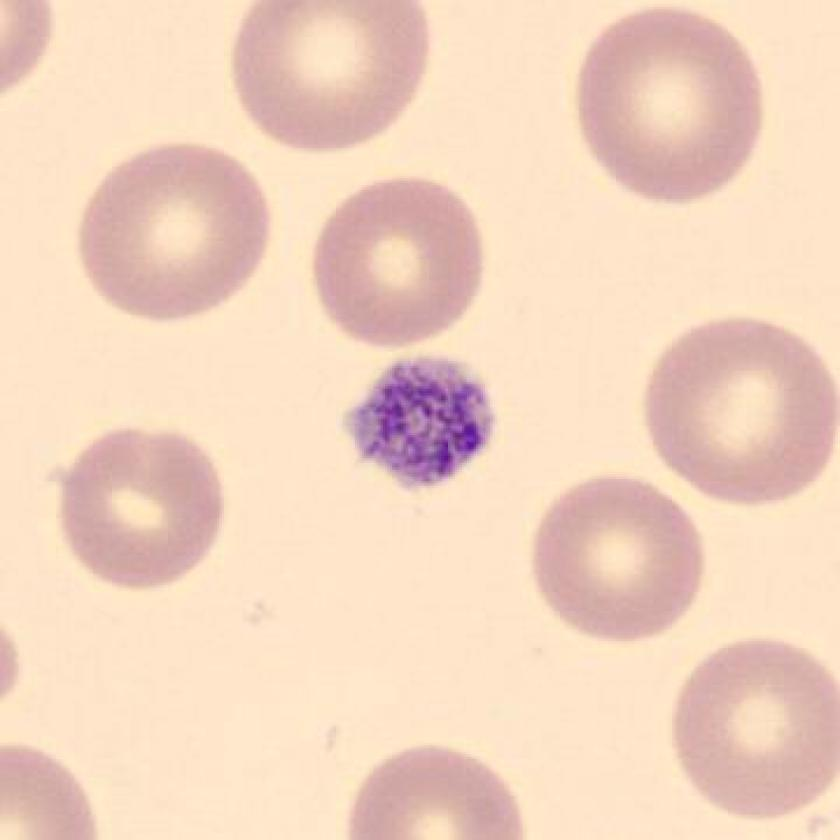platelets: (328, 342, 512, 513)
